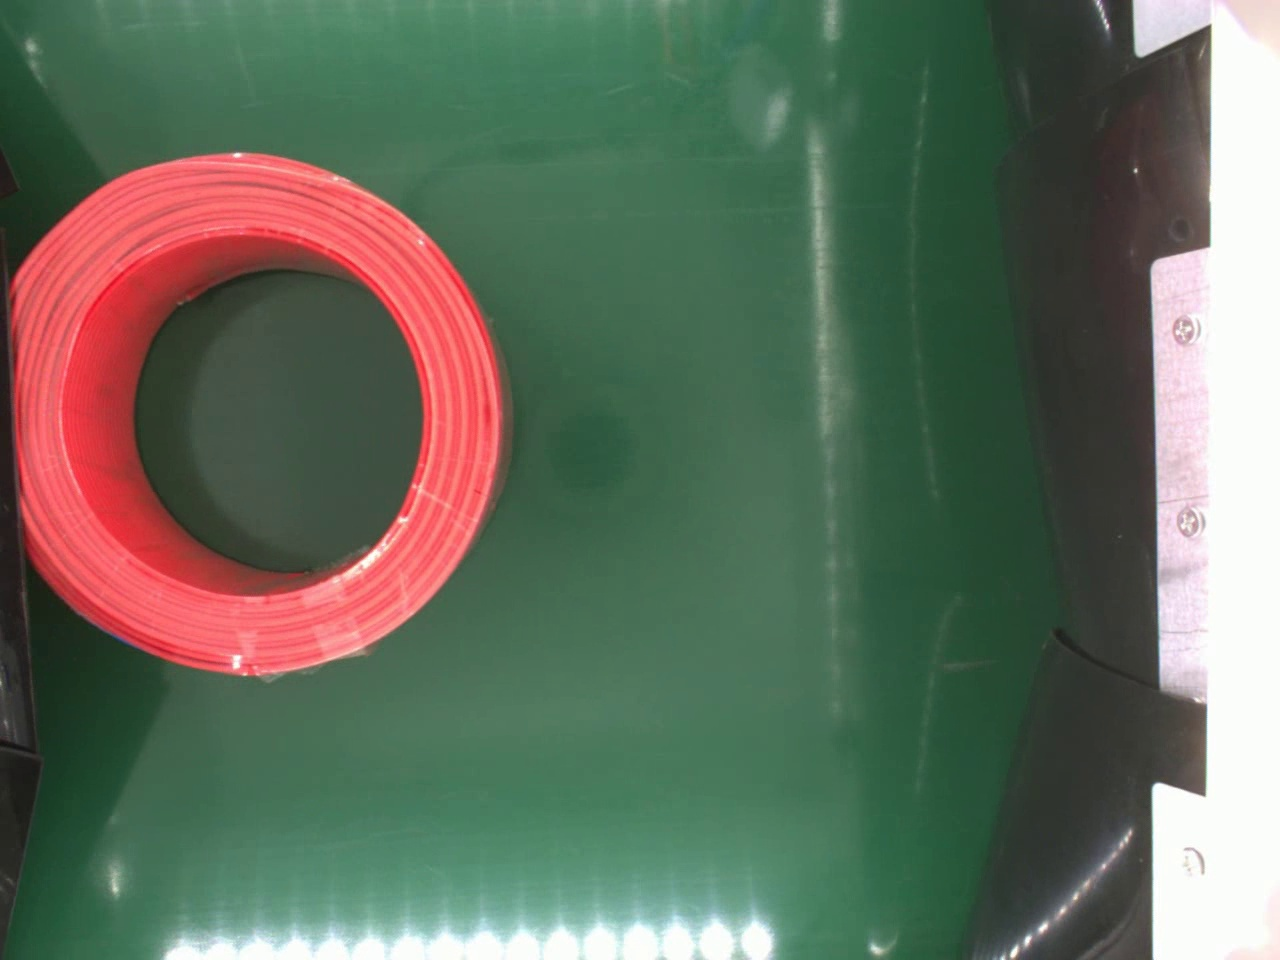red: (9, 147, 508, 679)
